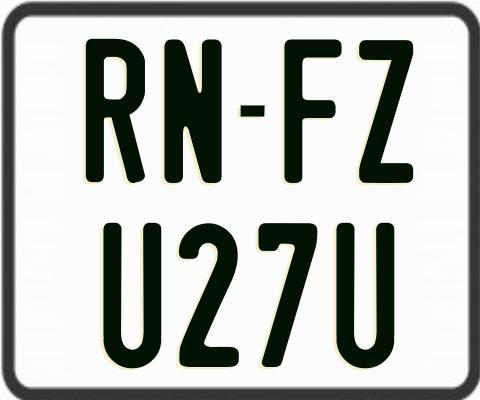2: (177, 220, 241, 367)
7: (257, 222, 322, 372)
F: (284, 38, 348, 185)
N: (161, 38, 221, 183)
R: (83, 37, 144, 186)
U: (101, 220, 160, 369), (335, 221, 393, 370)
Z: (359, 40, 418, 188)
